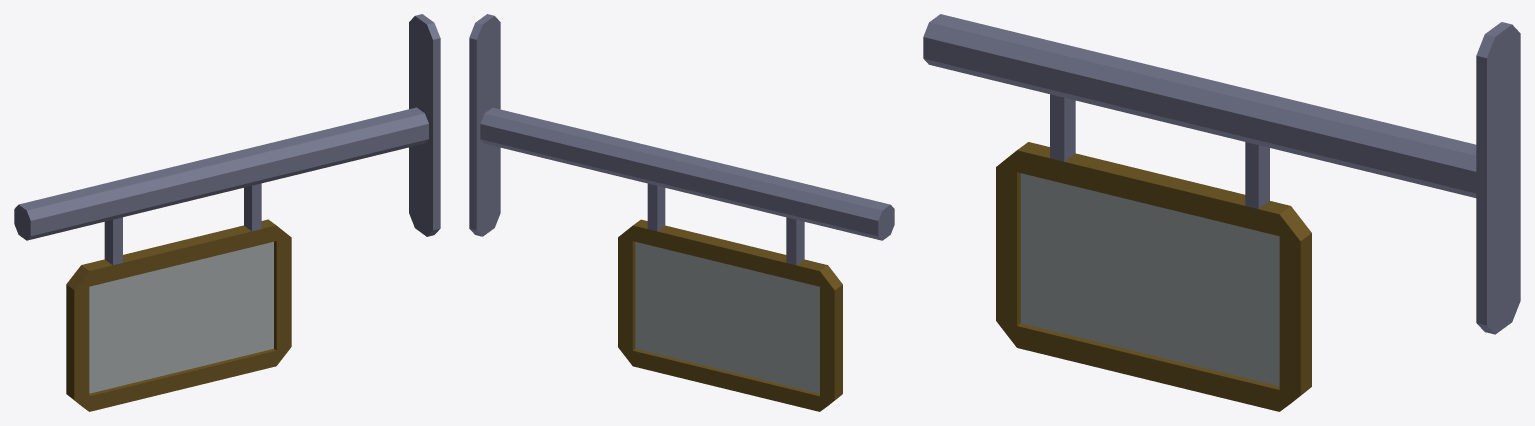
File: WallSign.fbx
3 views of the same model, side by side, from view 1: azimuth 30°, elevation 25°; view 2: azimuth 150°, elevation 25°; view 3: azimuth 330°, elevation 25° (orthographic). The views are drawn at different scales.
Visible parts, largest first — view 1: pCube57; view 2: pCube57; view 3: pCube57.
Part boxes in pixels (bbox=[...]): pCube57: bbox=[14, 14, 440, 411]; pCube57: bbox=[469, 14, 894, 411]; pCube57: bbox=[923, 14, 1520, 411].
Size of the model in its own units: 1 by 0.7233 by 0.1027.
